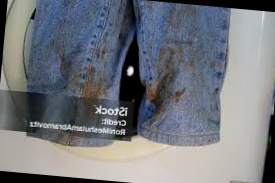earth: (145, 77, 169, 112), (79, 68, 104, 99), (164, 58, 178, 74), (173, 88, 185, 103)
